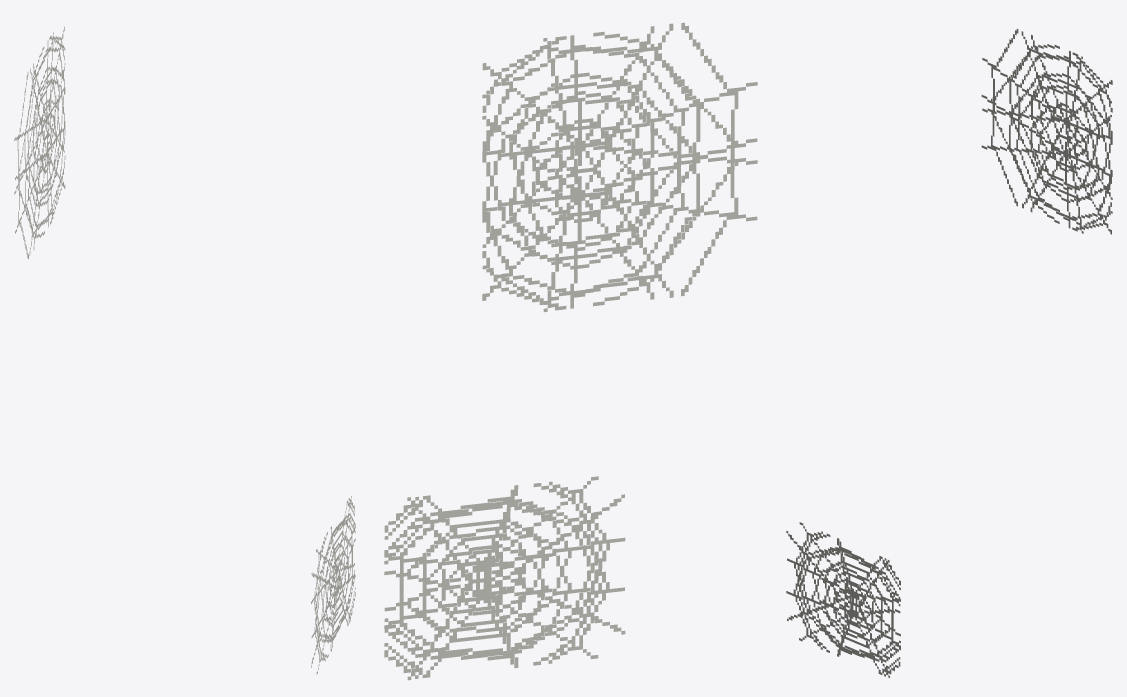
File: fd_web.glb
3 renders of one model, left to right at view 1: azimuth 30°, elevation 25°; view 2: azimuth 150°, elevation 25°; view 3: azimuth 270°, elevation 25°, orthographic. The views are drawn at different scales.
Parts seen in each view (by area): view 1: block_cobweb, block_cobweb low; view 2: block_cobweb, block_cobweb low; view 3: block_cobweb, block_cobweb low.
Boxes of the visible parts, x1,y1,x2,y2 form: block_cobweb: (14, 26, 65, 259); block_cobweb low: (311, 496, 355, 674); block_cobweb: (482, 22, 757, 312); block_cobweb low: (384, 476, 625, 680); block_cobweb: (981, 29, 1112, 234); block_cobweb low: (786, 522, 900, 677).
Size of the model in its own units: 1 by 1.8 by 1.
1 material, 1 textured.
